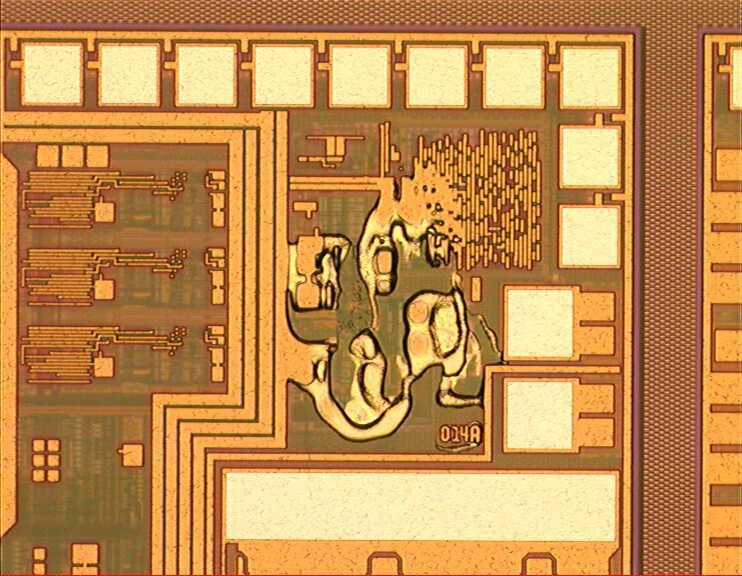BLOCK ETCH: (283, 163, 506, 455)
